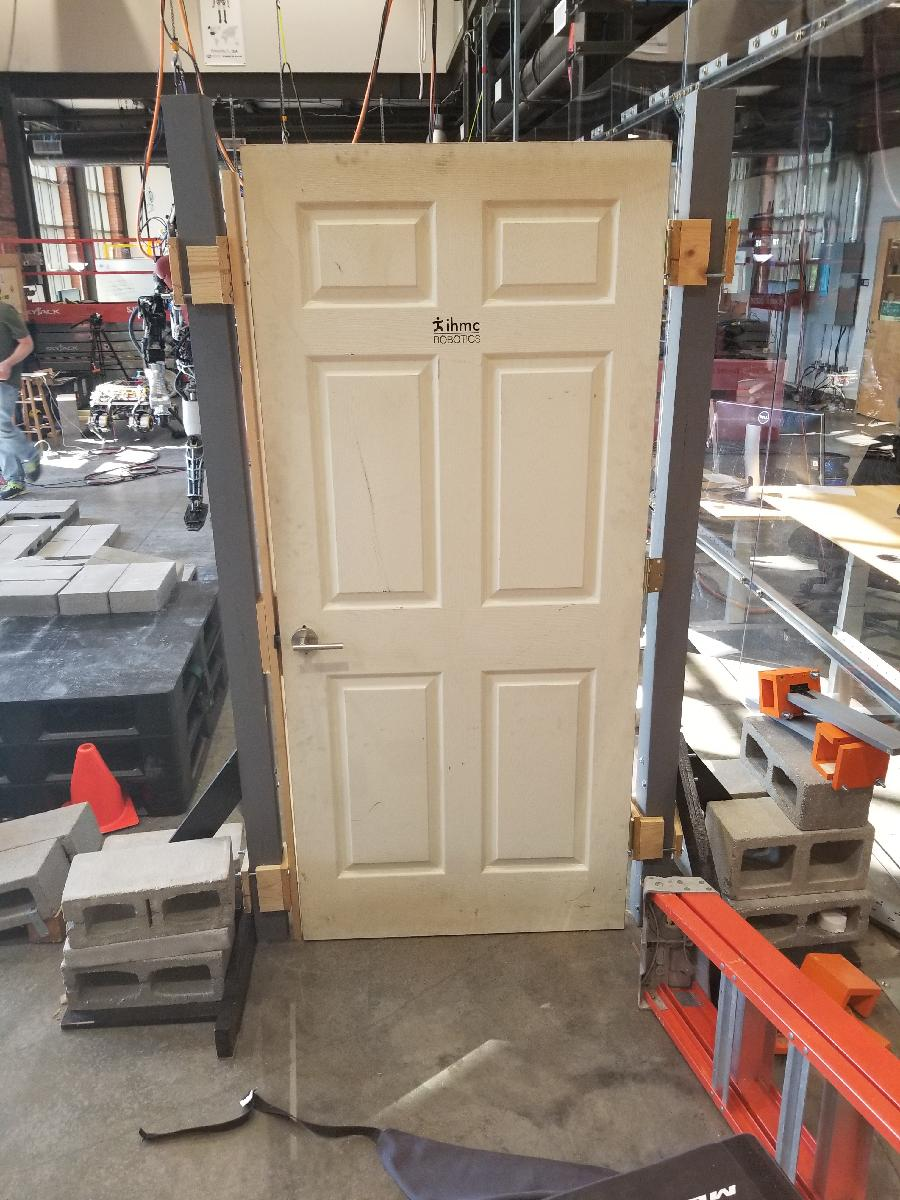door: (235, 135, 673, 944)
doorHandle: (285, 620, 350, 666)
